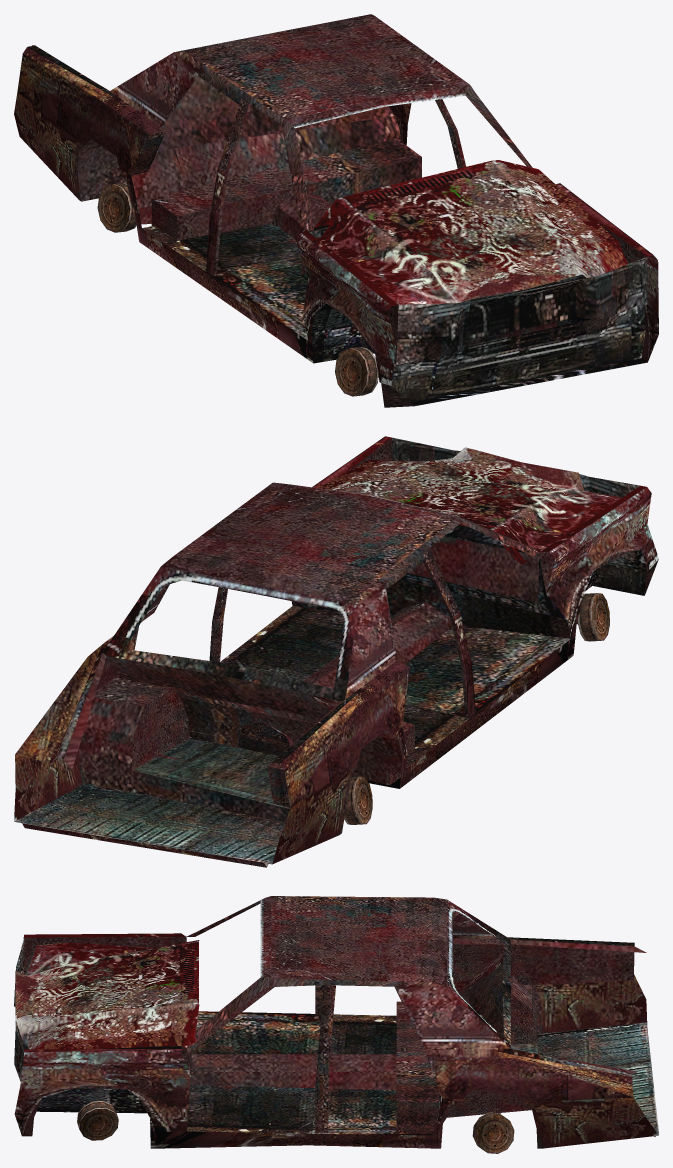
File: car_destroyed_03.fbx
The picture shows the model from 3 angles, top to bottom: view 1: azimuth 30°, elevation 25°; view 2: azimuth 150°, elevation 25°; view 3: azimuth 270°, elevation 25°; orthographic projection. The views are drawn at different scales.
Parts seen in each view (by area): view 1: mesh_0; view 2: mesh_0; view 3: mesh_0.
Boxes of the visible parts, x1,y1,x2,y2 form: mesh_0: [14, 14, 658, 407]; mesh_0: [14, 436, 658, 867]; mesh_0: [14, 896, 658, 1153].
Size of the model in its own units: 211 by 141 by 495.
Materials: 1 (1 with a texture image).
